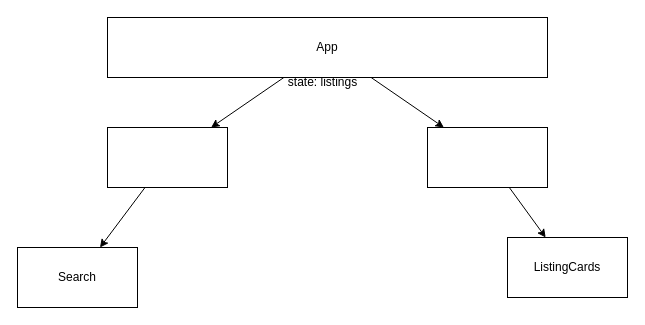
Some shapes in this 645 by 325 pixel diagram are drawn without their labels. Here are the shapes that lost their labels. From the top down, the box of each, then its label:
(106, 126, 228, 188): Header
(426, 126, 548, 188): ListingsContainer
